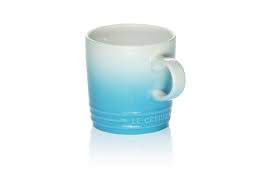cup: (82, 21, 188, 137)
